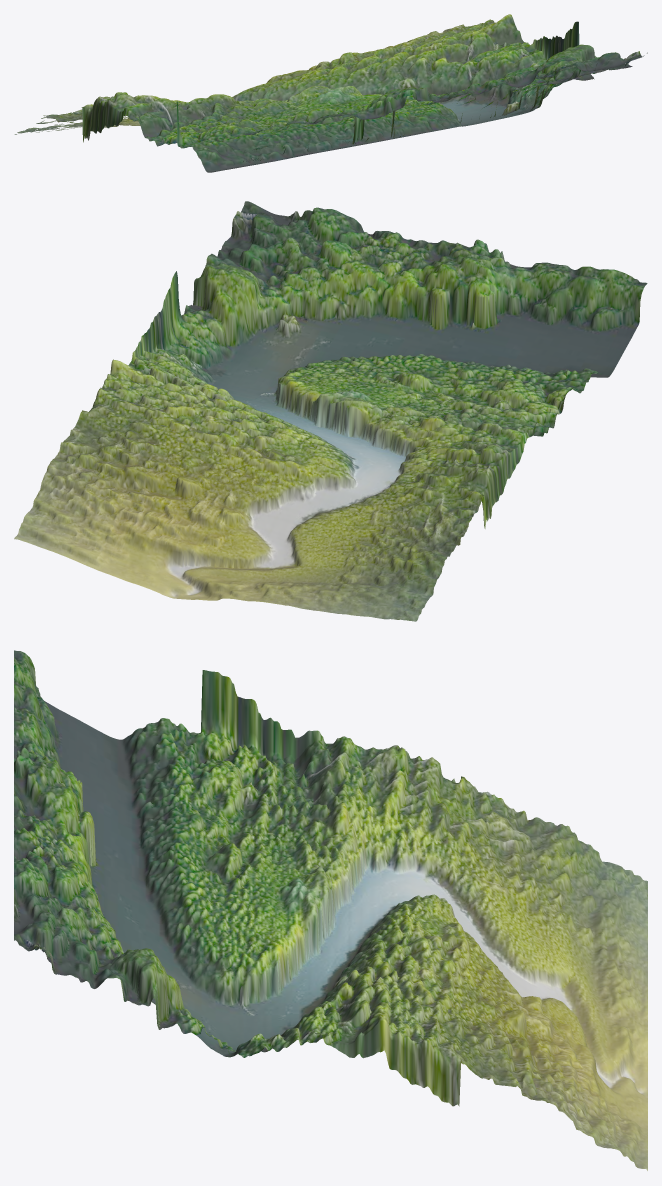
The model's file is dsm_ece4f2d614_mesh.glb.
3 renders of one model, top to bottom at view 1: azimuth 30°, elevation 25°; view 2: azimuth 150°, elevation 25°; view 3: azimuth 270°, elevation 25°, orthographic. The views are drawn at different scales.
Parts seen in each view (by area): view 1: geometry_0; view 2: geometry_0; view 3: geometry_0.
Boxes of the visible parts, x1,y1,x2,y2 form: geometry_0: (14, 14, 647, 172); geometry_0: (14, 201, 647, 621); geometry_0: (14, 650, 647, 1170).
Size of the model in its own units: 2 by 1 by 2.
